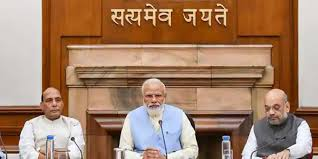Caution: (119, 77, 314, 159), (19, 75, 199, 159)
